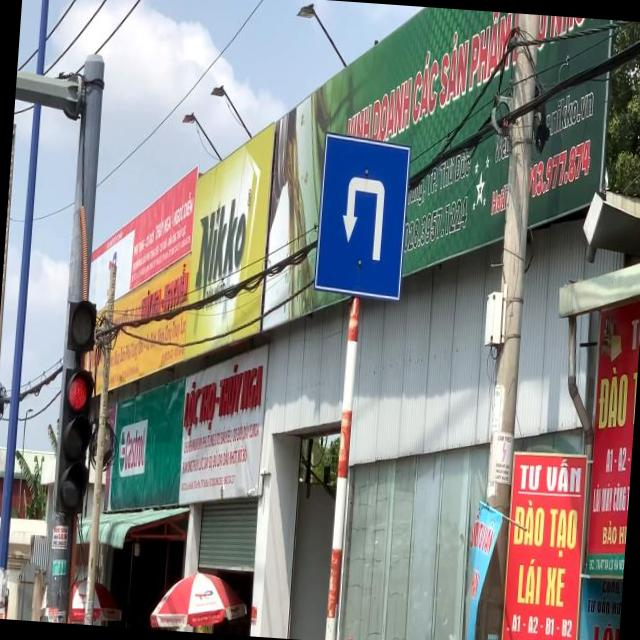I-409: (312, 134, 410, 298)
